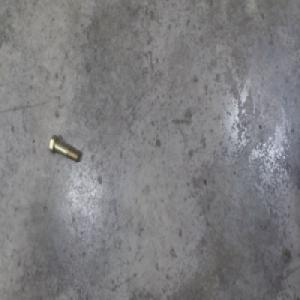Bolt: (50, 133, 80, 164)
